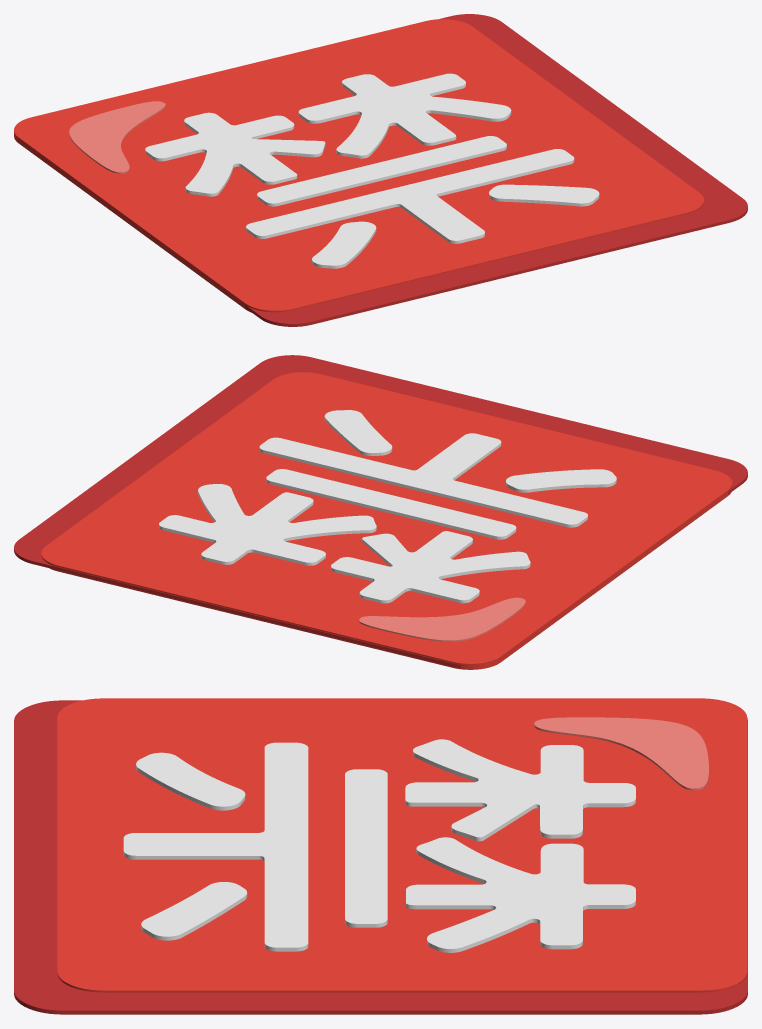
Rendered from emoji_u1f232.glb.
3 views of the same model, one above another, from view 1: azimuth 30°, elevation 25°; view 2: azimuth 150°, elevation 25°; view 3: azimuth 270°, elevation 25° (orthographic). The views are drawn at different scales.
Visible parts, largest first — view 1: emoji_u1f232; view 2: emoji_u1f232; view 3: emoji_u1f232.
Part boxes in pixels (x1,y1,x2,y2): emoji_u1f232: [14, 14, 747, 326]; emoji_u1f232: [14, 355, 747, 669]; emoji_u1f232: [14, 698, 747, 1014].
Size of the model in its own units: 0.0339 by 0.0008 by 0.0339.
